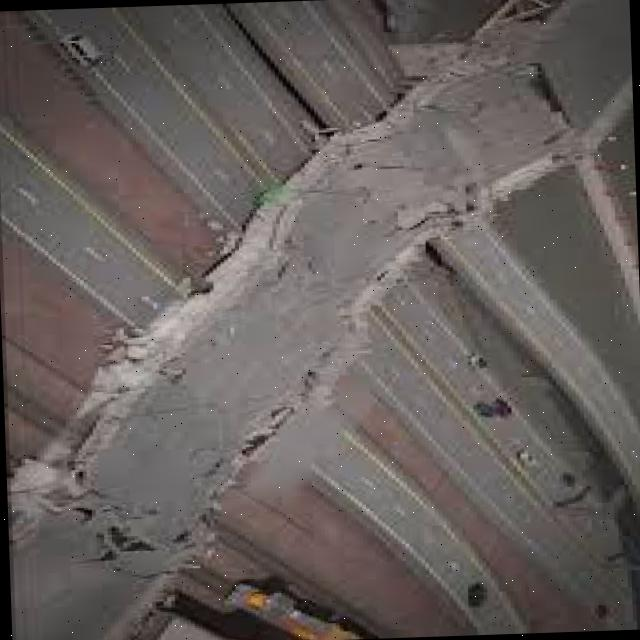bridge collapse: (0, 26, 621, 640)
